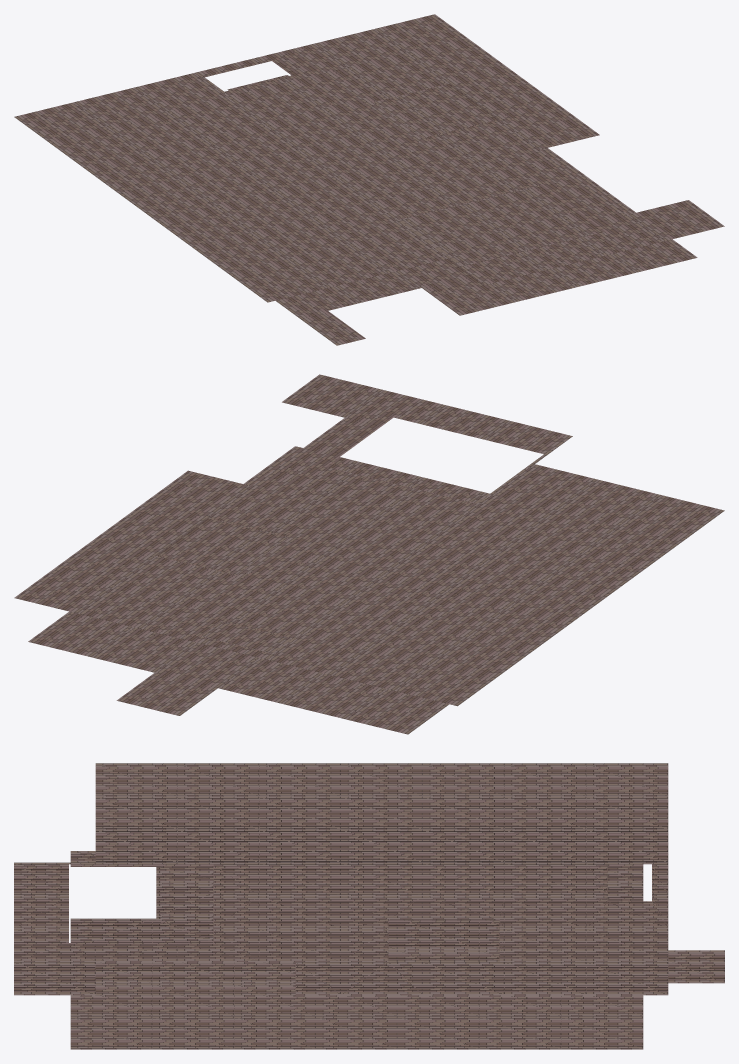
Rendered from plane wood floor.fbx.
The picture shows the model from 3 angles, top to bottom: view 1: azimuth 30°, elevation 25°; view 2: azimuth 150°, elevation 25°; view 3: azimuth 270°, elevation 25°; orthographic projection. The views are drawn at different scales.
Parts seen in each view (by area): view 1: Plane floor; view 2: Plane floor; view 3: Plane floor.
Part boxes in pixels (left/top/right/bottom): Plane floor: left=14, top=14, right=724, bottom=345; Plane floor: left=14, top=374, right=724, bottom=734; Plane floor: left=14, top=763, right=724, bottom=1049.
Bounding box in the file's own units: 50.28 × 5.62 × 65.19.
Materials: 1 (1 with a texture image).
